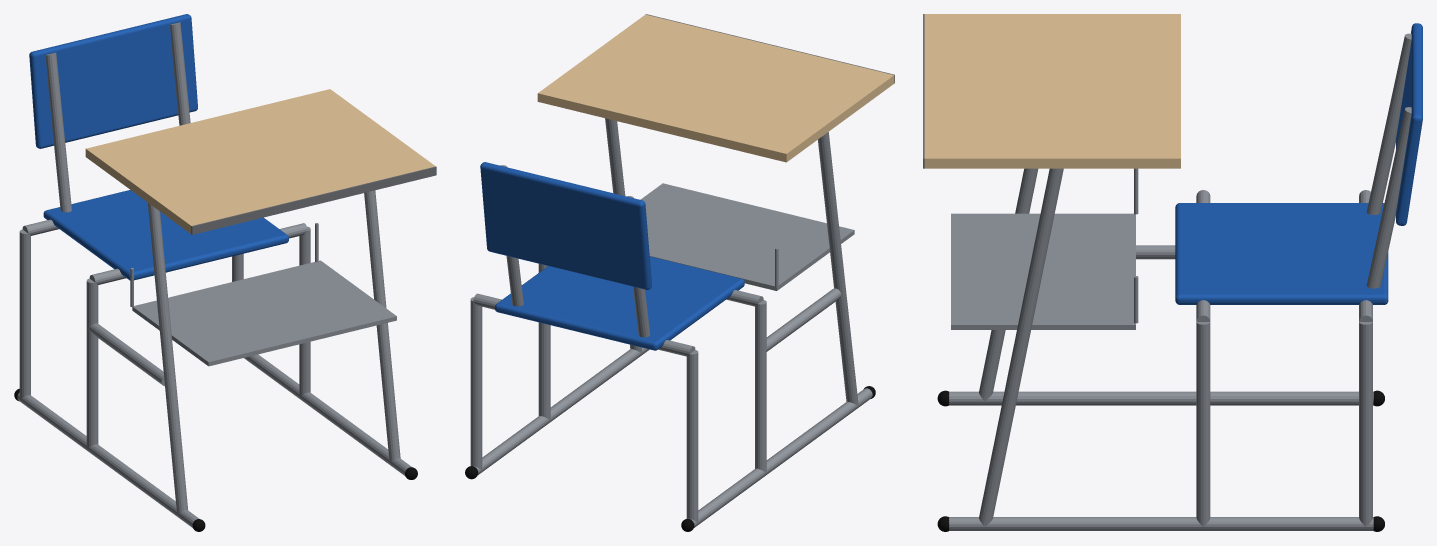
File: 077_classroom_combo_desk_chair.glb
The picture shows the model from 3 angles, left to right: view 1: azimuth 30°, elevation 25°; view 2: azimuth 150°, elevation 25°; view 3: azimuth 270°, elevation 25°; orthographic projection. The views are drawn at different scales.
Visible parts, largest first — view 1: 000_desktop, 002_book_rack_wire, 020_back_shell, 017_seat_shell, 007_desk_support, 008_desk_support, 005_base_skid, 001_desktop_edge_band, 006_base_skid, 012_seat_post, 010_seat_post, 018_back_post (+4 smaller); view 2: 000_desktop, 020_back_shell, 002_book_rack_wire, 017_seat_shell, 007_desk_support, 005_base_skid, 006_base_skid, 010_seat_post, 011_seat_post, 012_seat_post, 013_seat_post, 016_spine (+4 smaller); view 3: 000_desktop, 017_seat_shell, 002_book_rack_wire, 006_base_skid, 005_base_skid, 008_desk_support, 013_seat_post, 020_back_shell, 011_seat_post, 019_back_post, 018_back_post, 007_desk_support (+1 smaller).
Part boxes in pixels (<box>): 000_desktop: <box>85,89,435,233</box>; 002_book_rack_wire: <box>132,260,396,366</box>; 020_back_shell: <box>29,14,197,148</box>; 017_seat_shell: <box>43,190,288,280</box>; 007_desk_support: <box>147,203,187,514</box>; 008_desk_support: <box>364,190,400,462</box>; 005_base_skid: <box>17,393,199,527</box>; 001_desktop_edge_band: <box>191,166,436,234</box>; 006_base_skid: <box>244,354,411,476</box>; 012_seat_post: <box>86,278,98,448</box>; 010_seat_post: <box>19,229,30,399</box>; 018_back_post: <box>45,52,71,212</box>; 000_desktop: <box>537,14,894,162</box>; 020_back_shell: <box>480,162,651,289</box>; 002_book_rack_wire: <box>640,183,854,290</box>; 017_seat_shell: <box>495,256,744,350</box>; 007_desk_support: <box>818,132,858,405</box>; 005_base_skid: <box>687,388,872,527</box>; 006_base_skid: <box>473,347,649,474</box>; 010_seat_post: <box>686,350,698,522</box>; 011_seat_post: <box>470,297,482,470</box>; 012_seat_post: <box>755,300,766,472</box>; 013_seat_post: <box>538,264,550,420</box>; 016_spine: <box>766,288,841,351</box>; 000_desktop: <box>924,14,1180,168</box>; 017_seat_shell: <box>1175,203,1388,304</box>; 002_book_rack_wire: <box>951,213,1135,329</box>; 006_base_skid: <box>949,517,1373,530</box>; 005_base_skid: <box>949,391,1373,405</box>; 008_desk_support: <box>979,168,1063,526</box>; 013_seat_post: <box>1196,322,1210,526</box>; 020_back_shell: <box>1396,23,1422,225</box>; 011_seat_post: <box>1359,322,1372,526</box>; 019_back_post: <box>1366,107,1411,288</box>; 018_back_post: <box>1366,33,1411,214</box>; 007_desk_support: <box>979,168,1038,400</box>.
Bounding box in the file's own units: 0.61 × 0.7858 × 0.8915.
